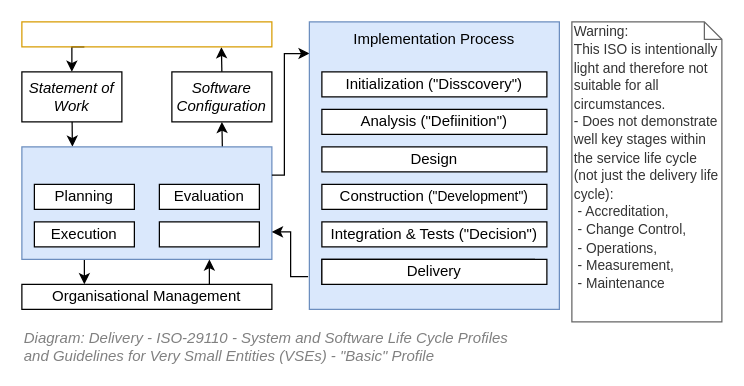
Some shapes in this 744 by 386 pixel diagram are drawn without their labels. Here are the shapes that lost their labels. From the top down, the box of each, then its label:
(21, 21, 272, 47): Customer
(21, 146, 272, 259): Project Management Process
(158, 221, 259, 247): Closure
